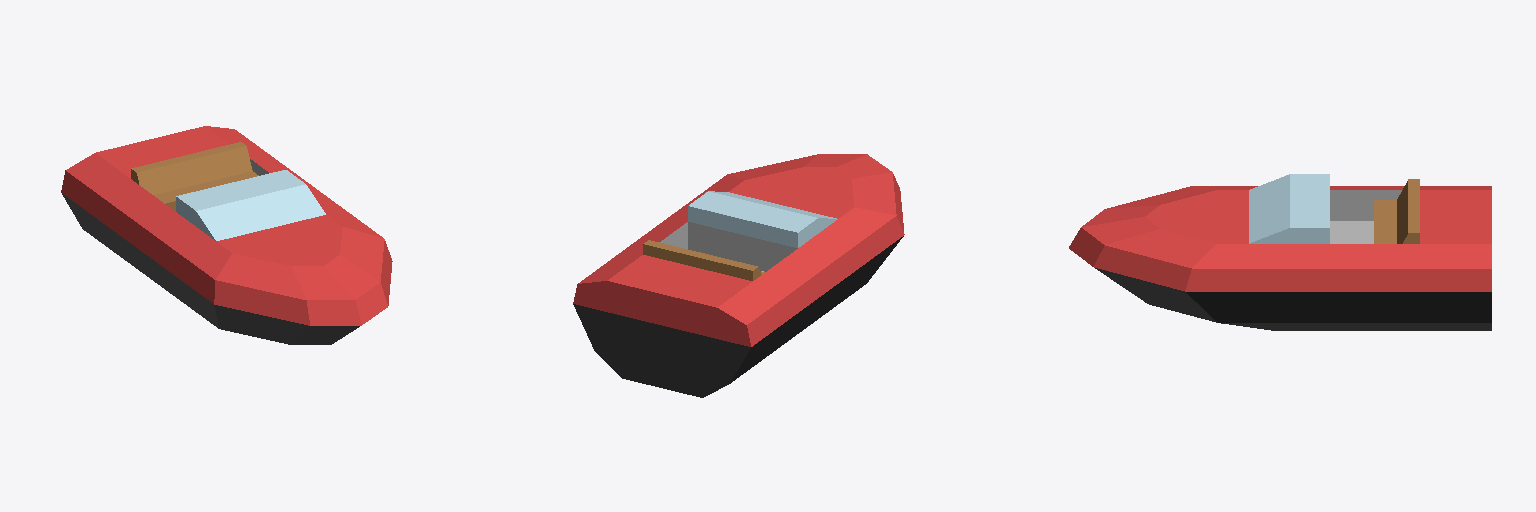
Rendered from watercraftPack_016.obj.
The picture shows the model from 3 angles: view 1: azimuth 30°, elevation 25°; view 2: azimuth 150°, elevation 25°; view 3: azimuth 270°, elevation 25°; orthographic projection.
Parts seen in each view (by area): view 1: Mesh1 Group1 Model; view 2: Mesh1 Group1 Model; view 3: Mesh1 Group1 Model.
Part boxes in pixels (left/top/right/bottom): Mesh1 Group1 Model: left=61, top=126, right=392, bottom=344; Mesh1 Group1 Model: left=573, top=154, right=904, bottom=397; Mesh1 Group1 Model: left=1069, top=174, right=1491, bottom=330.
Bounding box in the file's own units: 1.78 × 1.05 × 3.67.